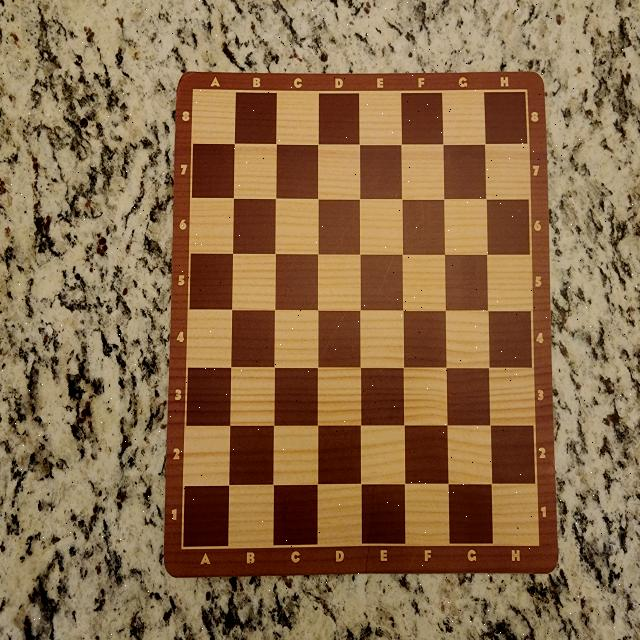Bottom-Left: (182, 486, 229, 549)
Bottom-Right: (492, 484, 539, 546)
Top-Left: (193, 89, 235, 142)
Top-Right: (486, 89, 528, 145)
